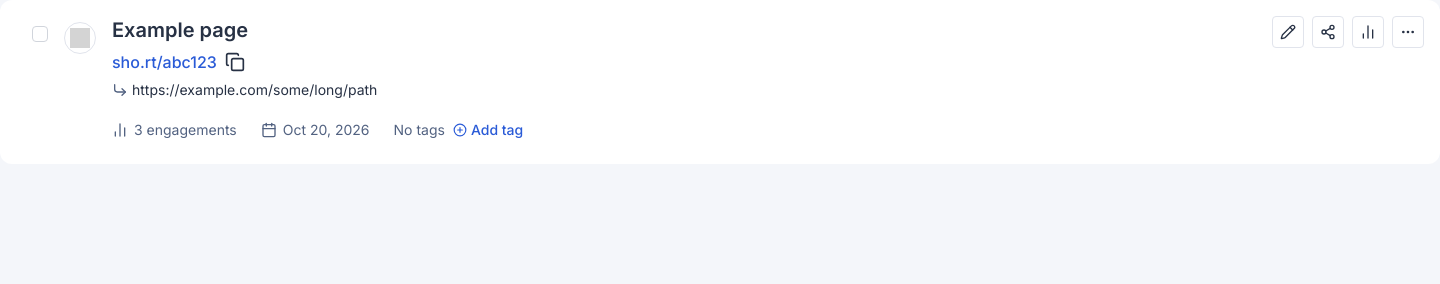
it: LinkCard › actions menu lists the Bitly items in order
The image size is (1440, 284).
Click the button named "More": (1408, 32) [1392, 16, 1424, 48]
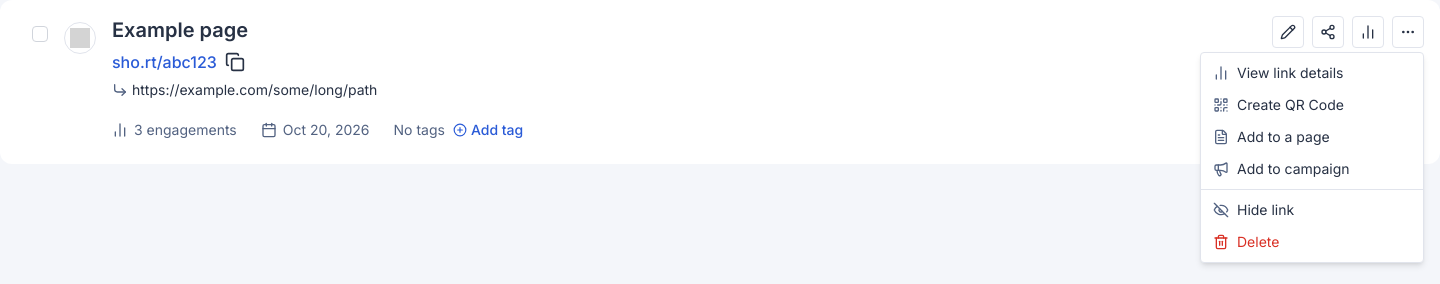
expect the menu items read "View link details", "Create QR Code", "Add to a page", "Add to campaign", "Hide link", "Delete", in this order: met, box [1213, 64, 1344, 81]; [1213, 96, 1344, 113]; [1213, 128, 1330, 145]; [1213, 160, 1350, 177]; [1213, 201, 1294, 218]; [1213, 233, 1279, 250]
